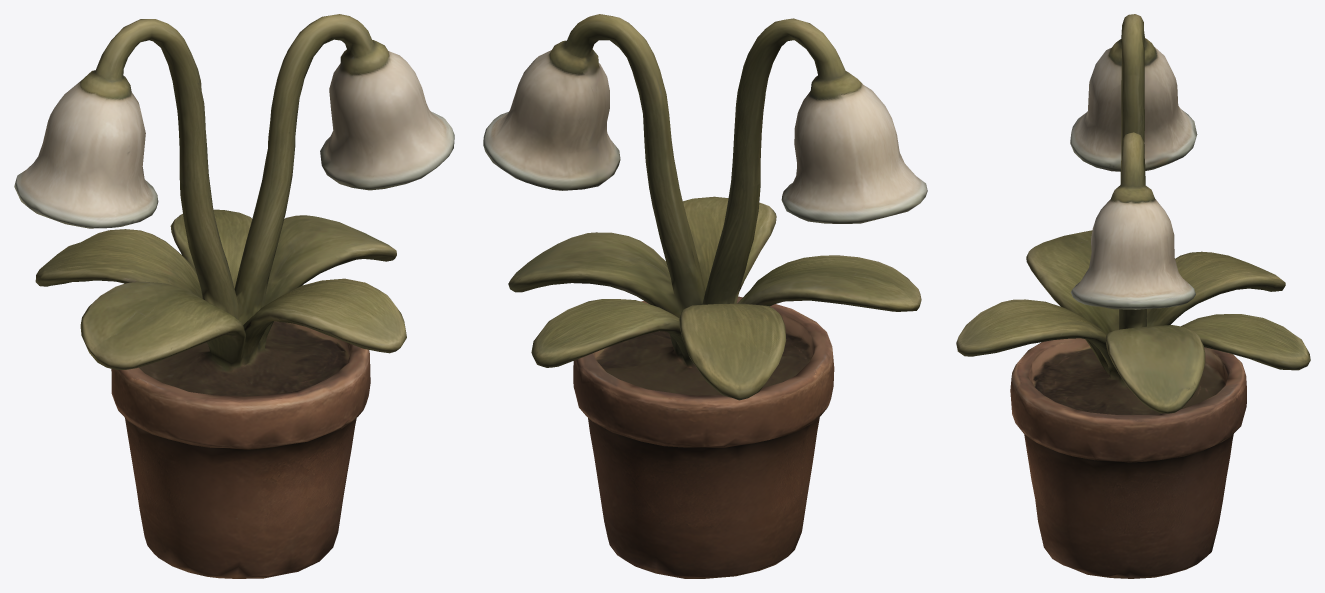
Rendered from Prop_GreenhousePotA.fbx.
The picture shows the model from 3 angles, left to right: view 1: azimuth 30°, elevation 25°; view 2: azimuth 150°, elevation 25°; view 3: azimuth 270°, elevation 25°; orthographic projection. The views are drawn at different scales.
Parts seen in each view (by area): view 1: texture_mapping; view 2: texture_mapping; view 3: texture_mapping.
Boxes of the visible parts, box(x1,y1,x2,y2) form: texture_mapping: box(14, 14, 454, 578); texture_mapping: box(483, 14, 927, 578); texture_mapping: box(956, 14, 1310, 578).
Bounding box in the file's own units: 0.8123 × 0.6628 × 1.
Materials: 1 (1 with a texture image).
